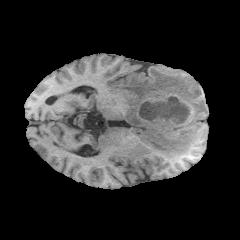glioma: (121, 67, 209, 156)
